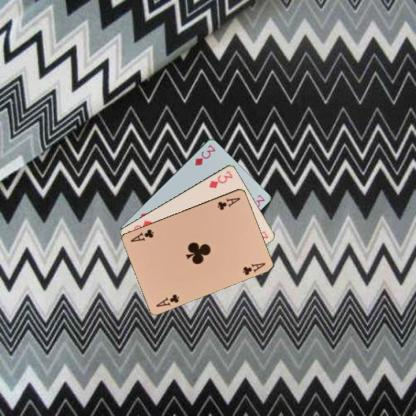3d: (206, 167, 234, 190), (192, 142, 217, 167)
Ac: (154, 291, 181, 308), (215, 195, 241, 211)
